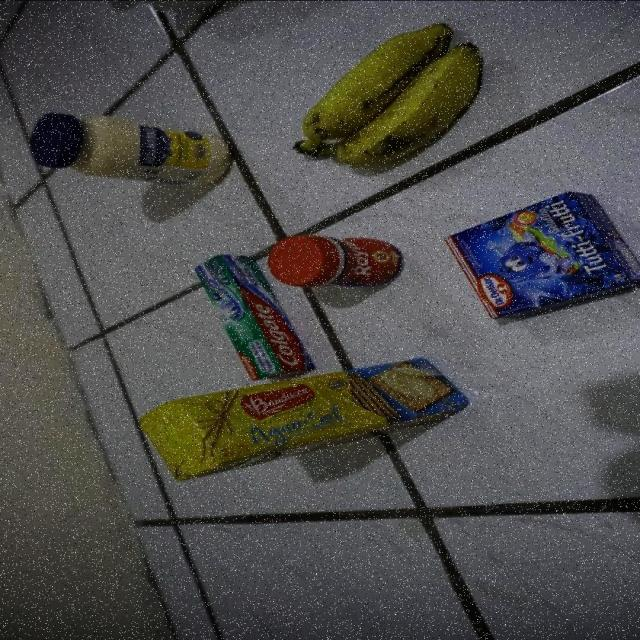Banana: (292, 20, 487, 166)
Cracker: (138, 356, 470, 481)
Gelatine: (444, 190, 640, 320)
Mayonnaise: (24, 110, 230, 186)
Toothpaste: (192, 254, 316, 380)
Yeast: (267, 235, 408, 287)
